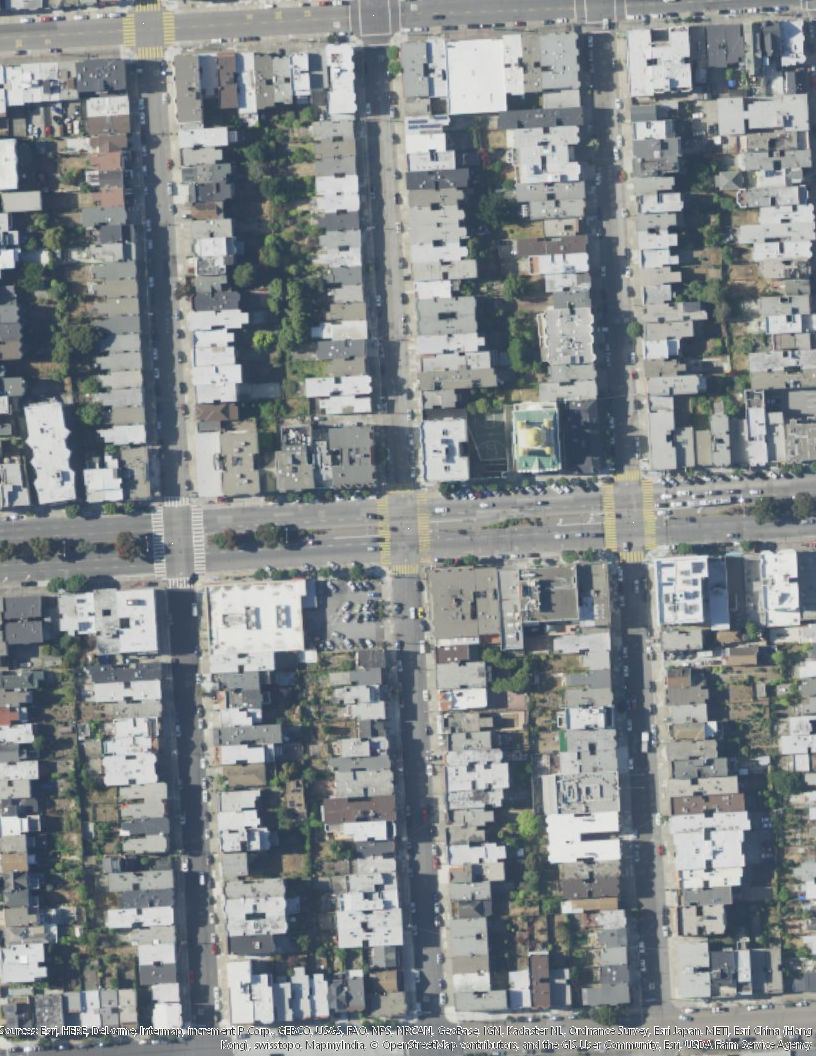zebracross: (188, 505, 207, 576), (639, 480, 658, 550), (148, 509, 167, 578), (374, 496, 392, 565), (415, 491, 432, 562), (601, 482, 618, 551), (159, 13, 177, 48), (121, 13, 137, 49), (167, 576, 198, 589), (390, 564, 419, 577), (134, 46, 162, 59), (619, 550, 645, 564), (132, 1, 161, 13), (612, 471, 641, 483), (385, 485, 415, 496), (160, 497, 189, 508)
